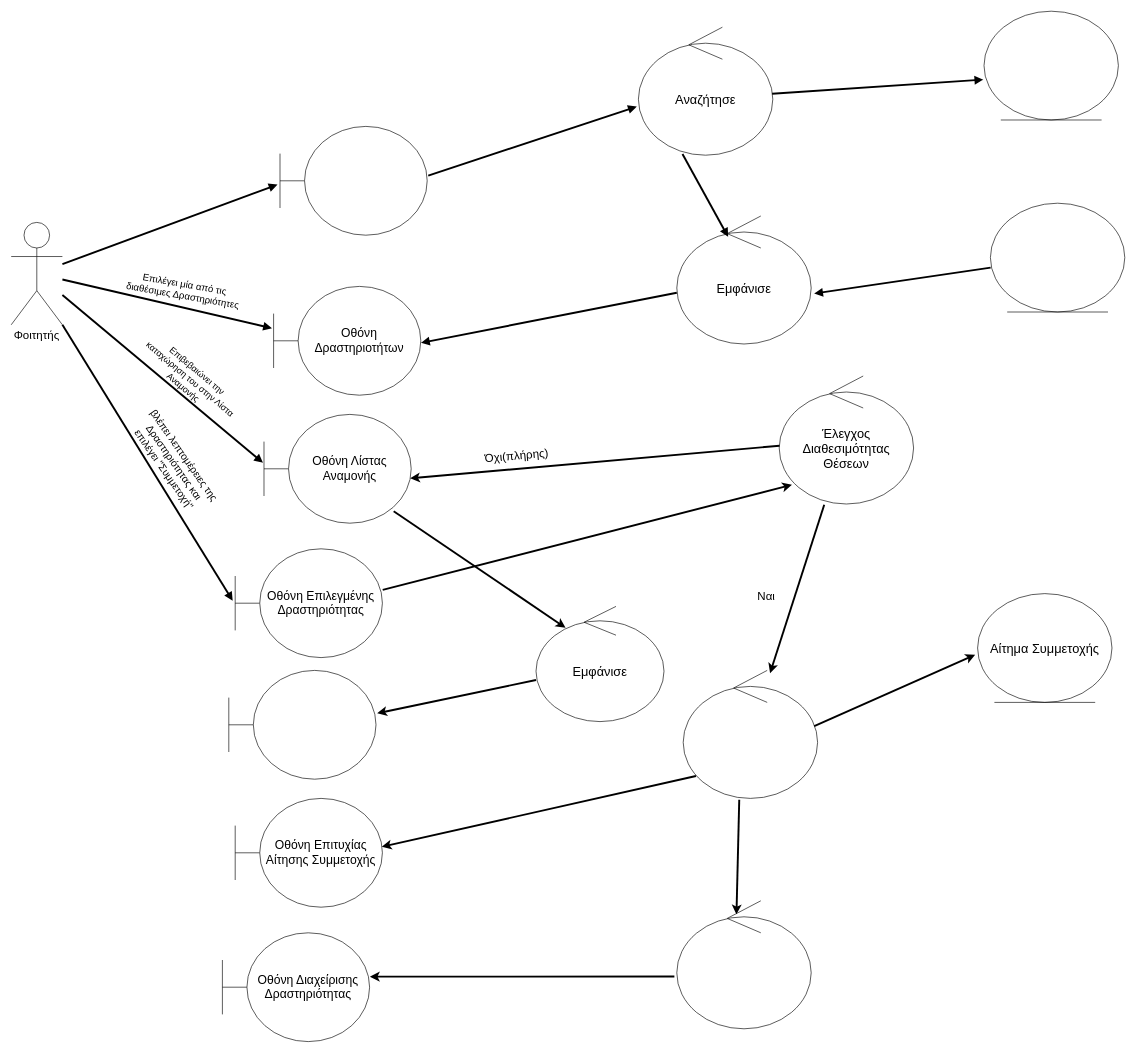
This 1136x1053 diagram has some shape labels left out. Each missing label, with the centre of its shape:
"Βάση Δεδομένων" belongs at (1050,65).
"Δημιουργία Αιτήματος" belongs at (750,734).
"Ενημέρωσε" belongs at (743,964).
"Κεντρικό Μενού" belongs at (353,180).
"Λίστα Αιτήσεις" belongs at (1057,257).
"Οθόνη Επιβεβαίωσης της Καταχώρησης στην Λίστα Αναμονής" belongs at (302,724).
